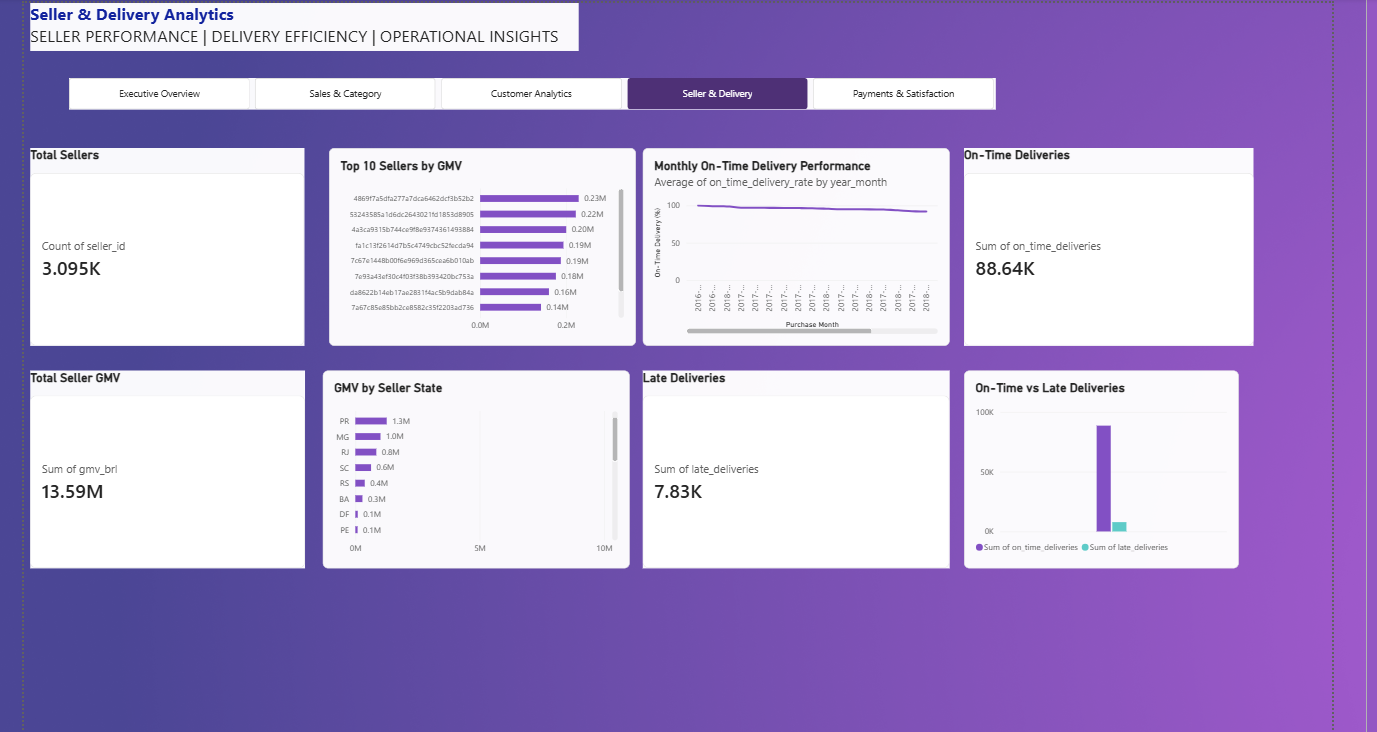

This screenshot's page, from the dashboard's own definition file:
{"tool":"powerbi","page":{"name":"Seller & Delivery","canvas":[1920,1080],"ordinal":3},"visuals":[{"type":"textbox","box":[10,0,805,70],"z":0},{"type":"cardVisual","title":"Total Sellers","fields":{"Data":["Count(analytics vw_seller_performance.seller_id)"]},"box":[10,213.3,402.5,290],"z":1000},{"type":"cardVisual","title":"Total Seller GMV","fields":{"Data":["Sum(analytics vw_seller_performance.gmv_brl)"]},"box":[10,540,403,290],"z":2000},{"type":"clusteredBarChart","title":"Top 10 Sellers by GMV","fields":{"Category":["analytics vw_seller_performance.seller_id"],"Y":["Sum(analytics vw_seller_performance.gmv_brl)"]},"box":[448.3,213.3,450,290],"z":3000},{"type":"clusteredBarChart","title":"GMV by Seller State","fields":{"Category":["analytics vw_seller_performance.seller_state"],"Y":["Sum(analytics vw_seller_performance.gmv_brl)"]},"box":[438.3,540,450,290],"z":4000},{"type":"lineChart","title":"Monthly On-Time Delivery Performance","fields":{"Category":["analytics vw_delivery_performance.year_month"],"Y":["Avg(analytics vw_delivery_performance.on_time_delivery_rate)"]},"box":[908.3,213.3,450,290],"z":5000},{"type":"cardVisual","title":"Late Deliveries","fields":{"Data":["Sum(analytics vw_executive_kpi_summary.late_deliveries)"]},"box":[908.3,540,450,290],"z":6000},{"type":"cardVisual","title":"On-Time Deliveries","fields":{"Data":["Sum(analytics vw_executive_kpi_summary.on_time_deliveries)"]},"box":[1380,213.3,425,290],"z":7000},{"type":"clusteredColumnChart","title":"On-Time vs Late Deliveries","fields":{"Y":["Sum(analytics vw_executive_kpi_summary.on_time_deliveries)","Sum(analytics vw_executive_kpi_summary.late_deliveries)"]},"box":[1380,540,403,290],"z":8000},{"type":"pageNavigator","box":[66.7,110,1360,46.7],"z":9000}]}

Visuals, with their boxes in screenshot pixels (x1, y1, x2, y2):
textbox: x1=21 y1=0 x2=579 y2=45
"Total Sellers" cardVisual: x1=21 y1=144 x2=300 y2=345
"Total Seller GMV" cardVisual: x1=21 y1=370 x2=300 y2=571
"Top 10 Sellers by GMV" clusteredBarChart: x1=325 y1=144 x2=636 y2=345
"GMV by Seller State" clusteredBarChart: x1=318 y1=370 x2=630 y2=571
"Monthly On-Time Delivery Performance" lineChart: x1=643 y1=144 x2=955 y2=345
"Late Deliveries" cardVisual: x1=643 y1=370 x2=955 y2=571
"On-Time Deliveries" cardVisual: x1=970 y1=144 x2=1264 y2=345
"On-Time vs Late Deliveries" clusteredColumnChart: x1=970 y1=370 x2=1249 y2=571
pageNavigator: x1=61 y1=73 x2=1002 y2=105
